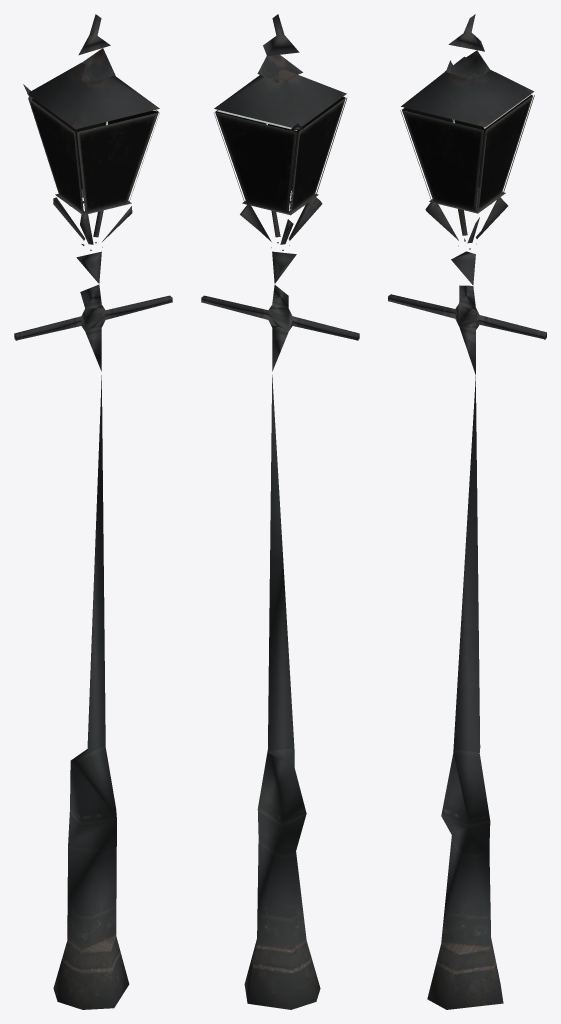
File: street_lamp_01.glb
3 views of the same model, side by side, from view 1: azimuth 30°, elevation 25°; view 2: azimuth 150°, elevation 25°; view 3: azimuth 330°, elevation 25° (orthographic).
Parts seen in each view (by area): view 1: street_lamp_01; view 2: street_lamp_01; view 3: street_lamp_01.
Part boxes in pixels (x1,y1,x2,y2): street_lamp_01: (14, 14, 172, 1009); street_lamp_01: (201, 14, 359, 1009); street_lamp_01: (388, 14, 546, 1009).
Bounding box in the file's own units: 0.6429 × 3.86 × 0.368.
Materials: 2 (2 with a texture image).
